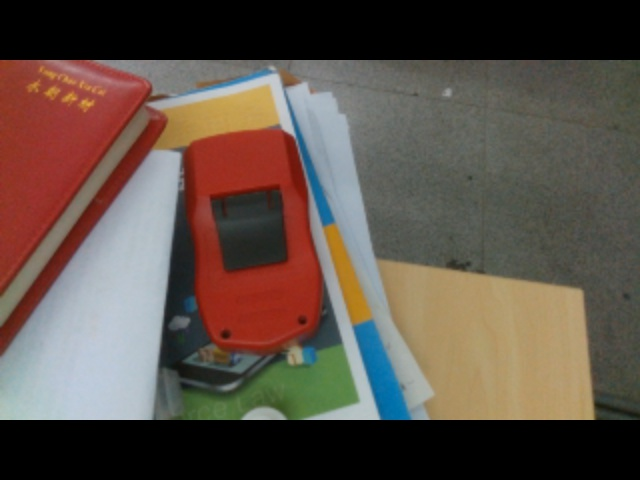Multimeter: (183, 124, 325, 350)
Screw holes: (218, 328, 232, 340), (297, 315, 309, 326)
